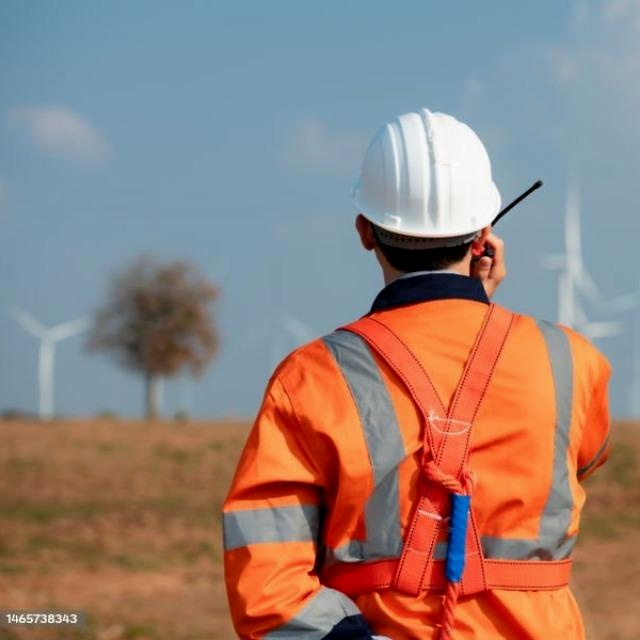Con_Casco: (353, 108, 503, 280)
Con_Chaleco: (283, 301, 603, 640)
